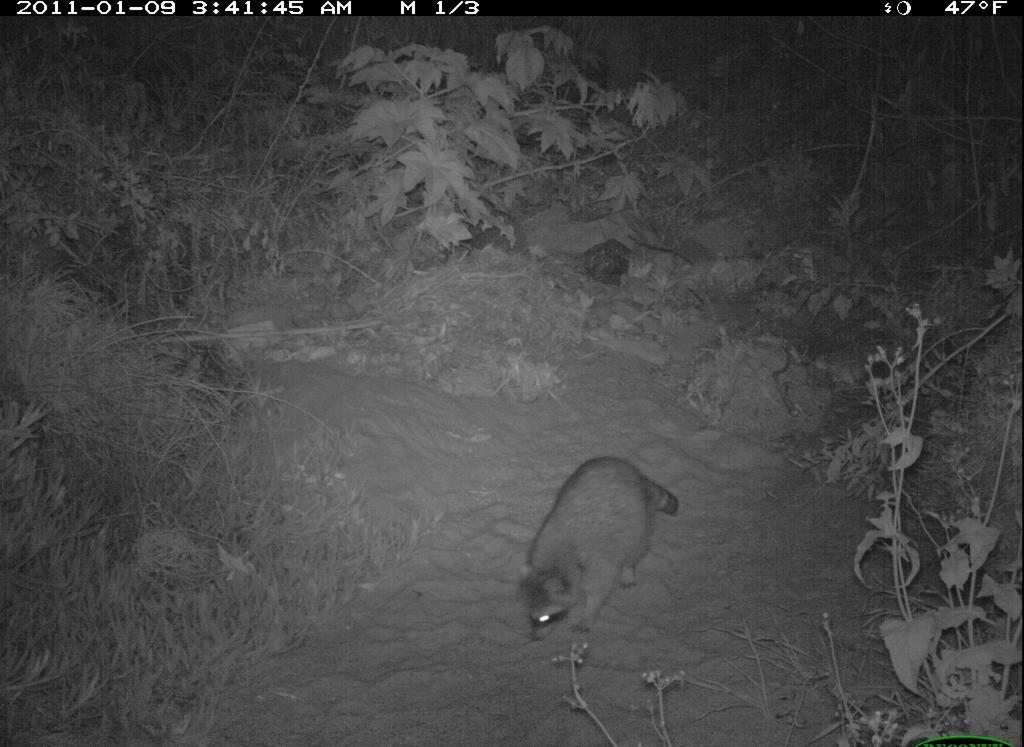raccoon: (513, 454, 689, 653)
